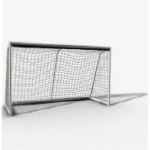goals: (4, 41, 113, 115)
